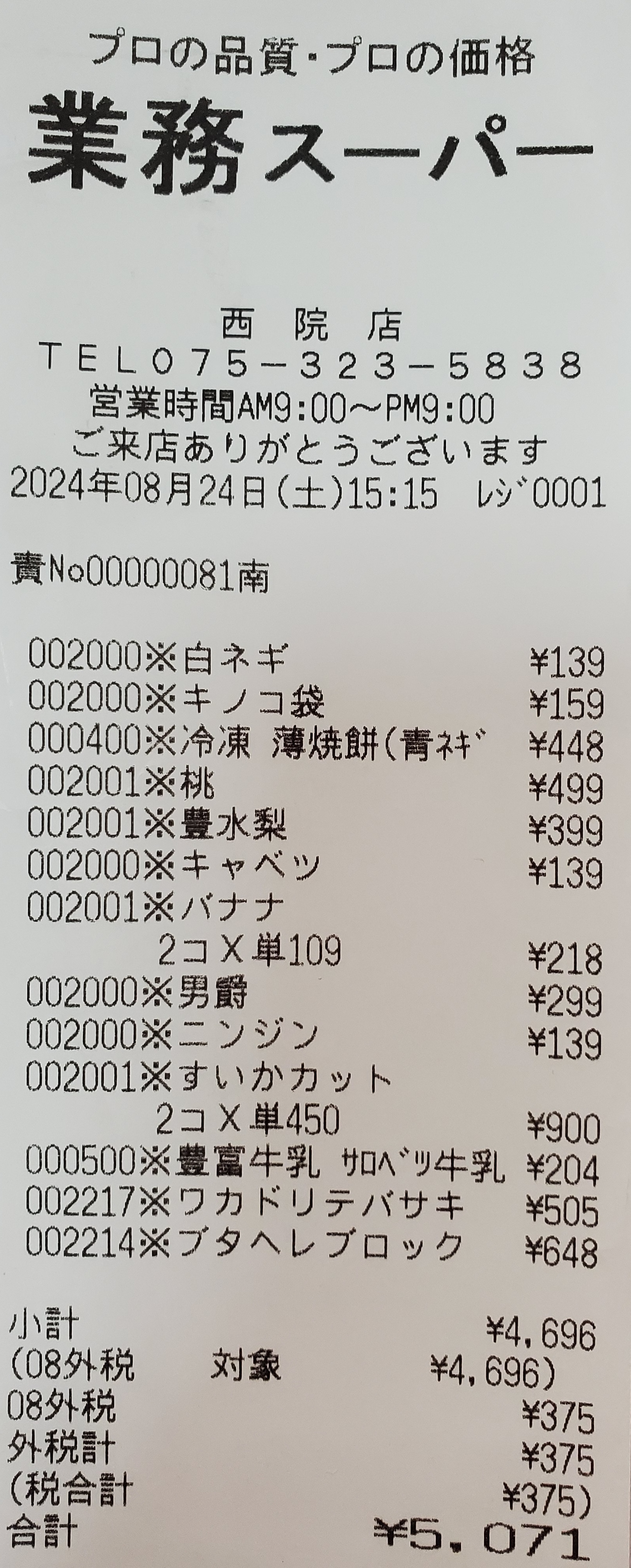Date: (9, 459, 273, 519)
Shopname: (16, 77, 626, 209)
Telnum: (148, 330, 587, 390)
Totalpay: (7, 1515, 617, 1564)
